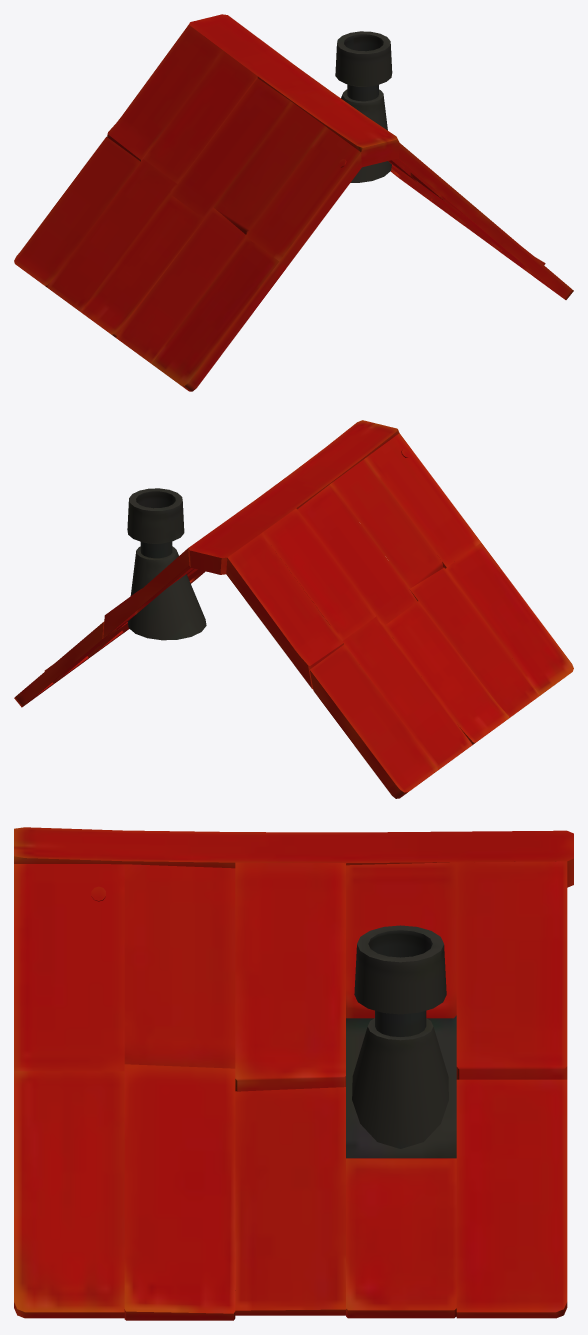
Rendered from roof-pa00-standard.glb.
The picture shows the model from 3 angles, top to bottom: view 1: azimuth 30°, elevation 25°; view 2: azimuth 150°, elevation 25°; view 3: azimuth 270°, elevation 25°; orthographic projection. The views are drawn at different scales.
Size of the model in its own units: 30.46 by 14.97 by 23.03.
Materials: 1 (1 with a texture image).
